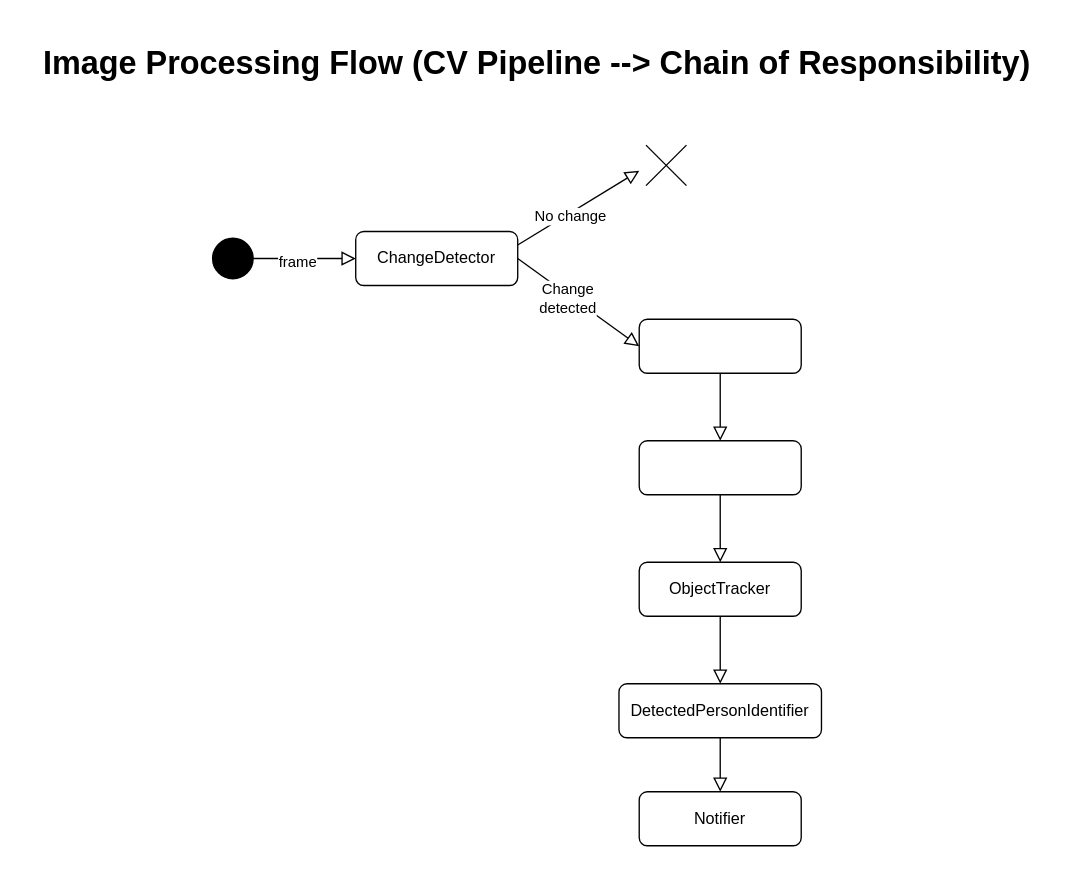
This 1072x869 diagram has some shape labels left out. Here are the shapes that lost their labels. From the top down, the box of each, then its label:
(638, 318, 801, 373): ObjectDetector
(638, 439, 801, 495): BoundingBoxFilter
